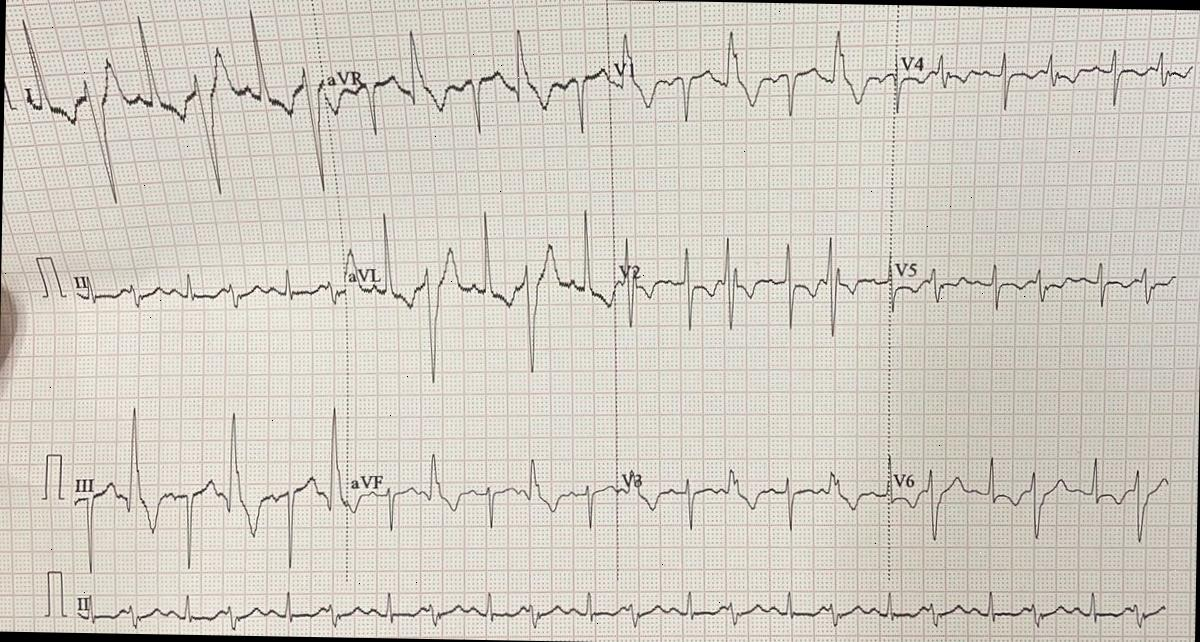Lead_I: (9, 0, 337, 225)
Lead_II: (67, 254, 346, 332)
Lead_III: (63, 400, 350, 586)
Lead_II_ext: (68, 572, 1175, 642)
Lead_V1: (612, 15, 900, 138)
Lead_V2: (612, 226, 892, 346)
Lead_V3: (614, 449, 891, 546)
Lead_V4: (898, 35, 1200, 115)
Lead_V5: (889, 242, 1185, 324)
Lead_V6: (889, 449, 1175, 558)
Lead_aVF: (346, 438, 618, 546)
Lead_aVL: (335, 194, 616, 392)
Lead_aVR: (321, 5, 614, 164)
